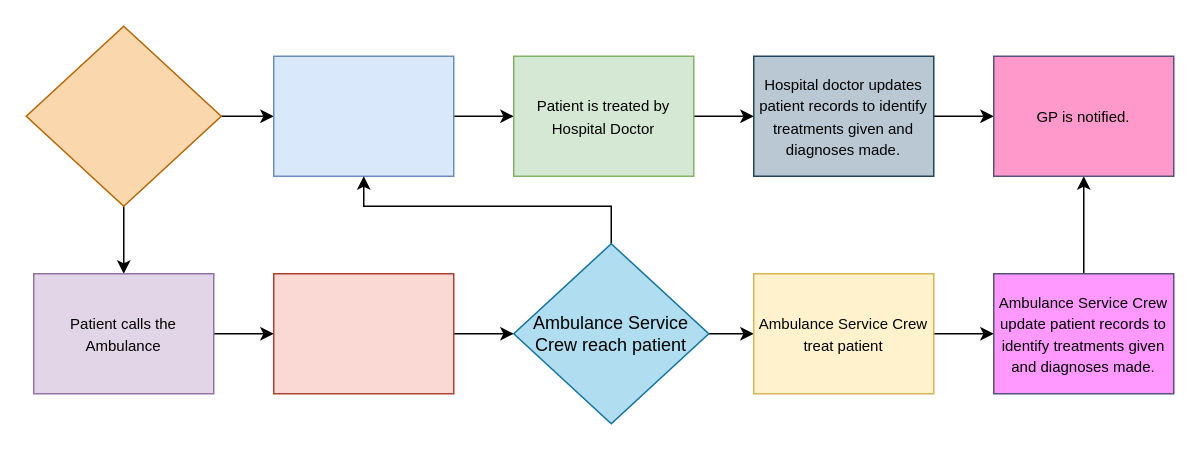
This 1200x450 diagram has some shape labels left out. The shapes that lost their labels are listed below. From the top down, each one's centre as x and y in pixels, then its label:
At [123,115]: "Patient needs emergency care".
At [363,115]: "Patient goes to A&E".
At [363,333]: "Ambulance Service Administrator dispatches Ambulance & logs call".
